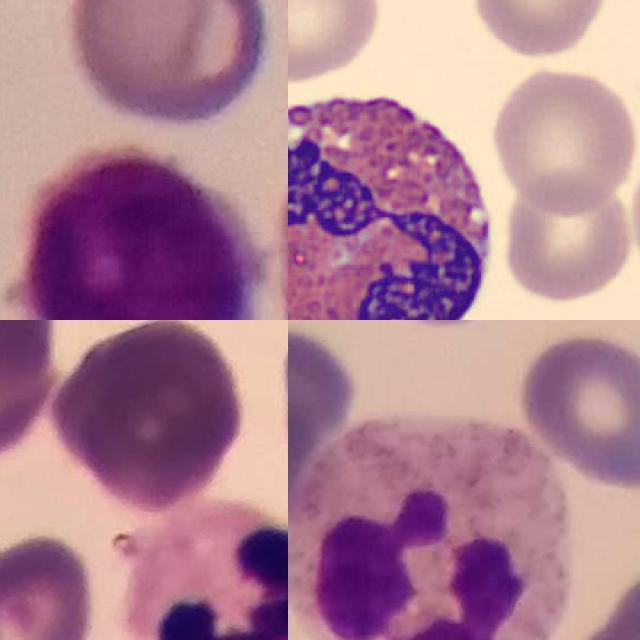Eosinophil: (288, 65, 513, 320)
Lymphocyte: (15, 145, 263, 320)
Neutrophil: (288, 414, 570, 640), (124, 500, 288, 640)
RBC: (486, 63, 640, 215), (497, 173, 637, 305), (465, 0, 611, 62), (288, 0, 387, 84), (627, 146, 640, 294)
